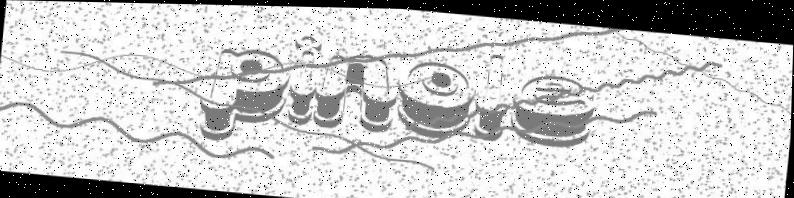e: (510, 70, 597, 147)
i: (288, 34, 320, 125)
l: (472, 51, 512, 139)
n: (313, 50, 400, 131)
o: (396, 57, 475, 136)
p: (198, 44, 292, 146)
